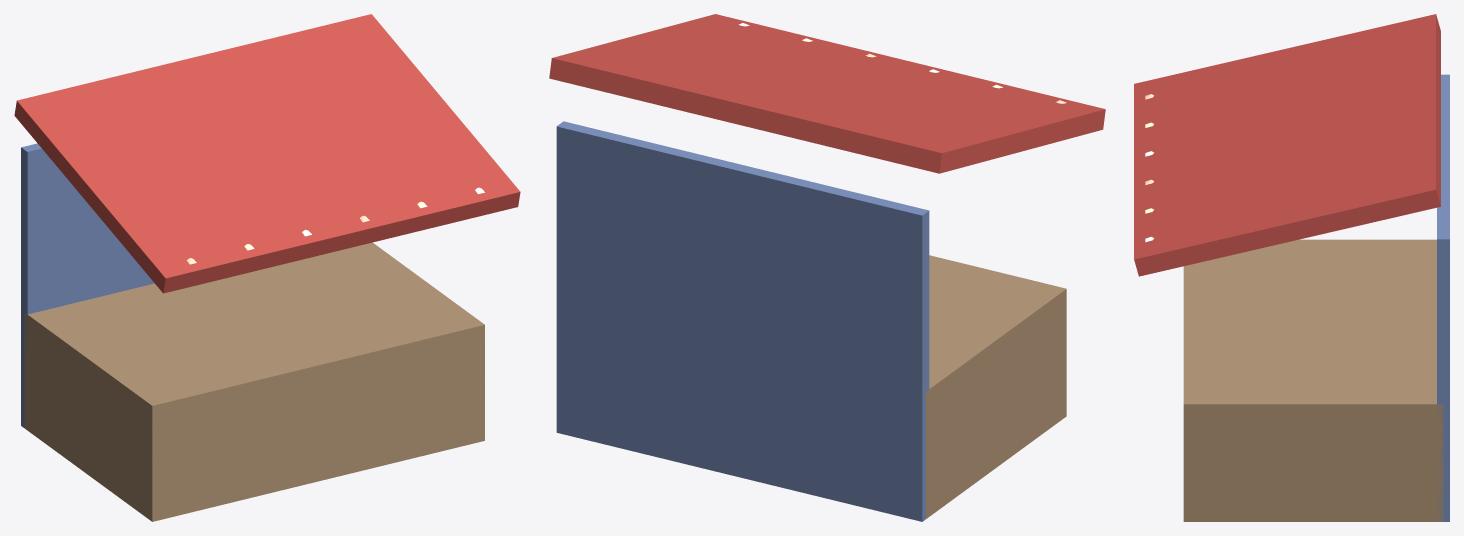
Rendered from booth.glb.
3 renders of one model, left to right at view 1: azimuth 30°, elevation 25°; view 2: azimuth 150°, elevation 25°; view 3: azimuth 270°, elevation 25°, orthographic. The views are drawn at different scales.
Visible parts, largest first — view 1: booth; view 2: booth; view 3: booth.
Part boxes in pixels (bbox=[...]): booth: bbox=[14, 14, 520, 521]; booth: bbox=[549, 14, 1105, 521]; booth: bbox=[1134, 14, 1449, 521].
Size of the model in its own units: 3.2 by 2.87 by 2.43.
